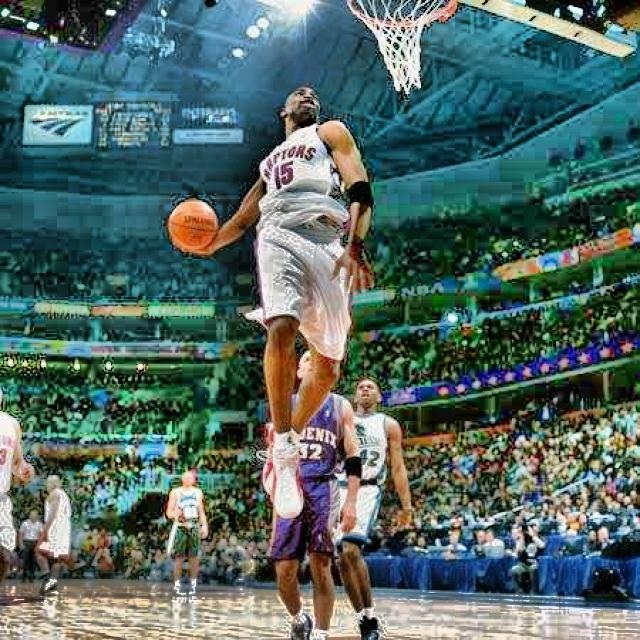board: (170, 200, 217, 250)
